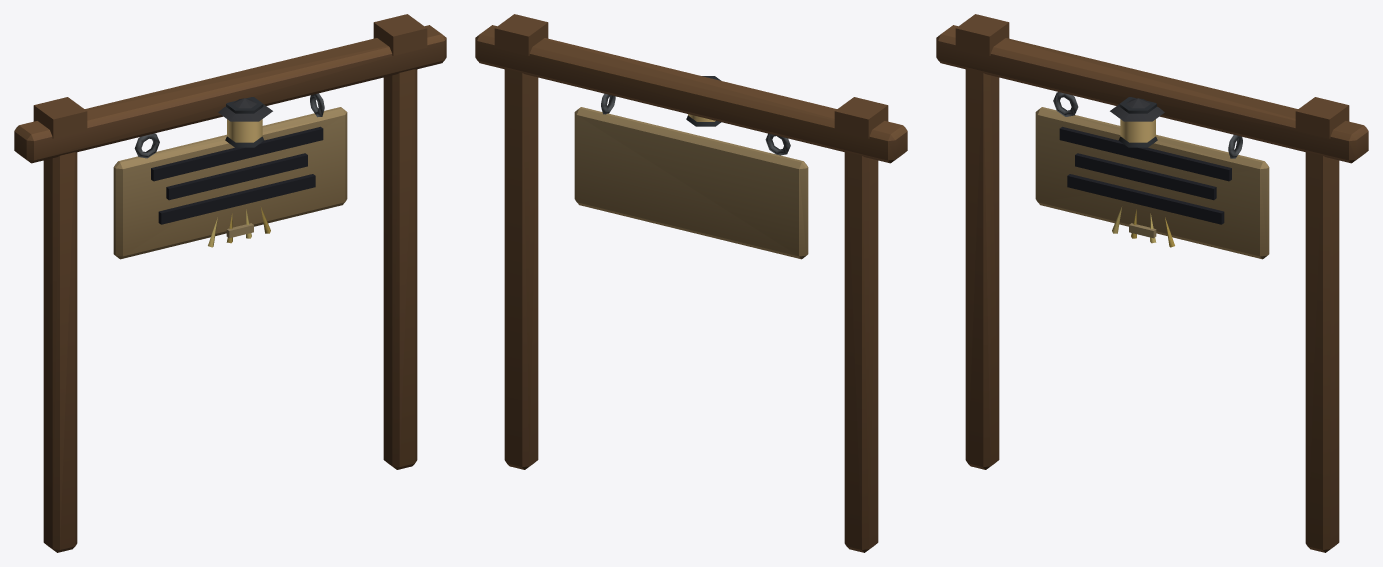
Rendered from farm-gate-sign.glb.
The picture shows the model from 3 angles, left to right: view 1: azimuth 30°, elevation 25°; view 2: azimuth 150°, elevation 25°; view 3: azimuth 330°, elevation 25°; orthographic projection.
Parts seen in each view (by area): view 1: farm_gate_sign; view 2: farm_gate_sign; view 3: farm_gate_sign.
Boxes of the visible parts, x1,y1,x2,y2 form: farm_gate_sign: (14, 14, 446, 552); farm_gate_sign: (475, 14, 907, 552); farm_gate_sign: (936, 14, 1368, 552).
Bounding box in the file's own units: 2.72 × 2.72 × 0.43.
